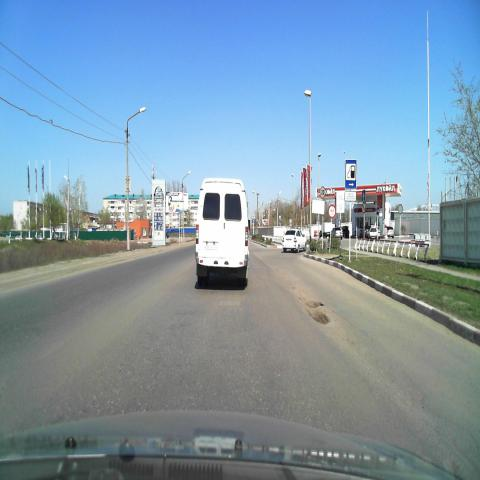7_3: (345, 160, 357, 190)
